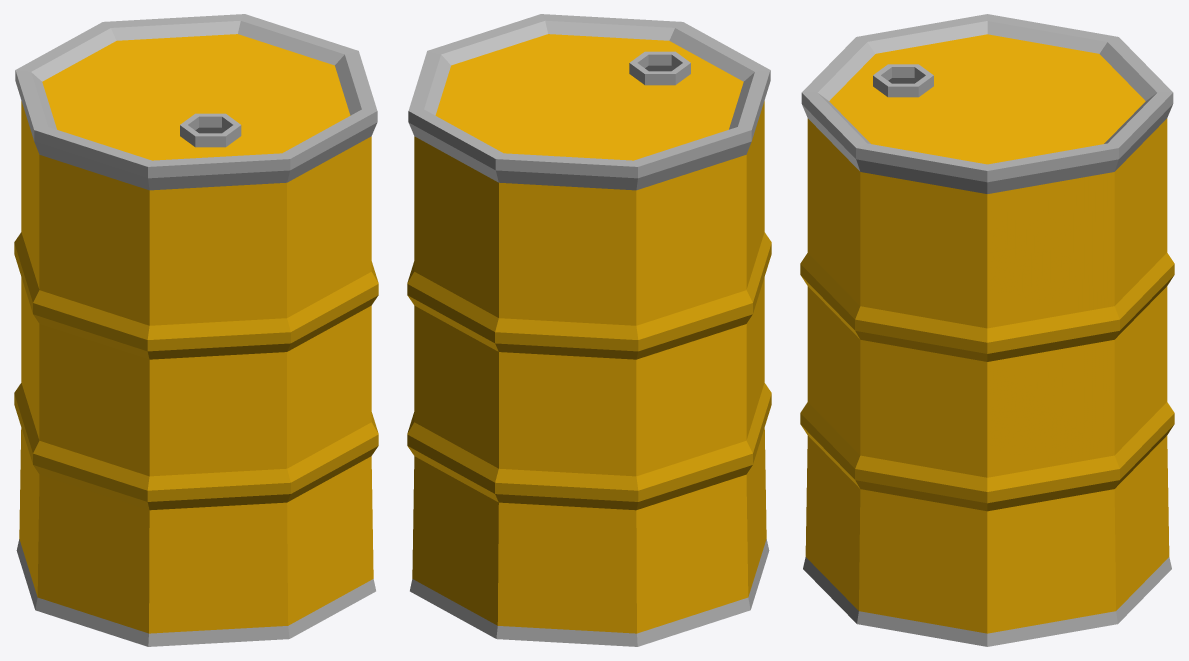
Rendered from Barrel Metal Yellow.fbx.
3 renders of one model, left to right at view 1: azimuth 30°, elevation 25°; view 2: azimuth 150°, elevation 25°; view 3: azimuth 270°, elevation 25°, orthographic.
Visible parts, largest first — view 1: Barrel Metal Yellow; view 2: Barrel Metal Yellow; view 3: Barrel Metal Yellow.
Boxes of the visible parts, left/top/right/bottom form: Barrel Metal Yellow: left=14, top=14, right=378, bottom=646; Barrel Metal Yellow: left=407, top=14, right=771, bottom=646; Barrel Metal Yellow: left=800, top=14, right=1174, bottom=646.
Bounding box in the file's own units: 82 × 116 × 82.
